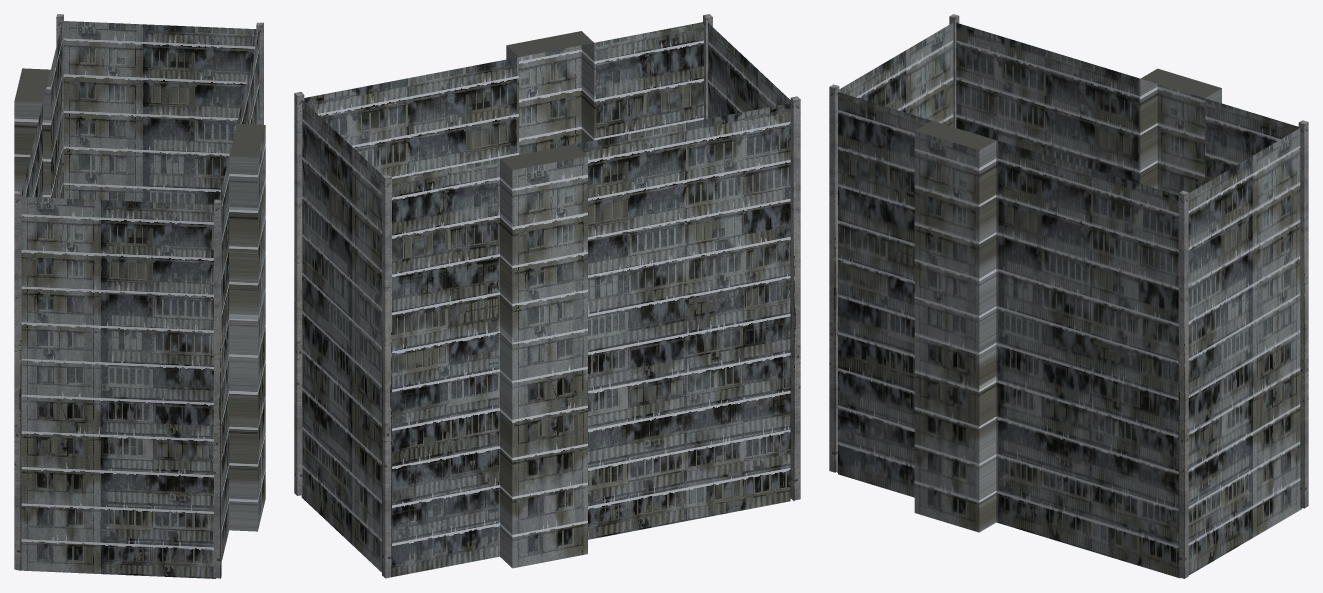
Rendered from tower_a.glb.
3 renders of one model, left to right at view 1: azimuth 30°, elevation 25°; view 2: azimuth 150°, elevation 25°; view 3: azimuth 270°, elevation 25°, orthographic. The views are drawn at different scales.
Parts seen in each view (by area): view 1: prop; view 2: prop; view 3: prop.
Boxes of the visible parts, bbox=[...] form: prop: bbox=[14, 14, 265, 578]; prop: bbox=[294, 14, 800, 578]; prop: bbox=[829, 14, 1308, 578].
Size of the model in its own units: 8.14 by 8.13 by 9.12.
Materials: 2 (2 with a texture image).
